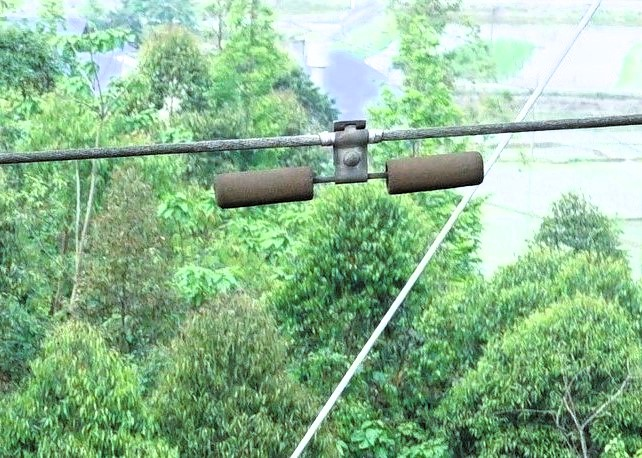Shockproof hammer: (203, 108, 496, 216)
